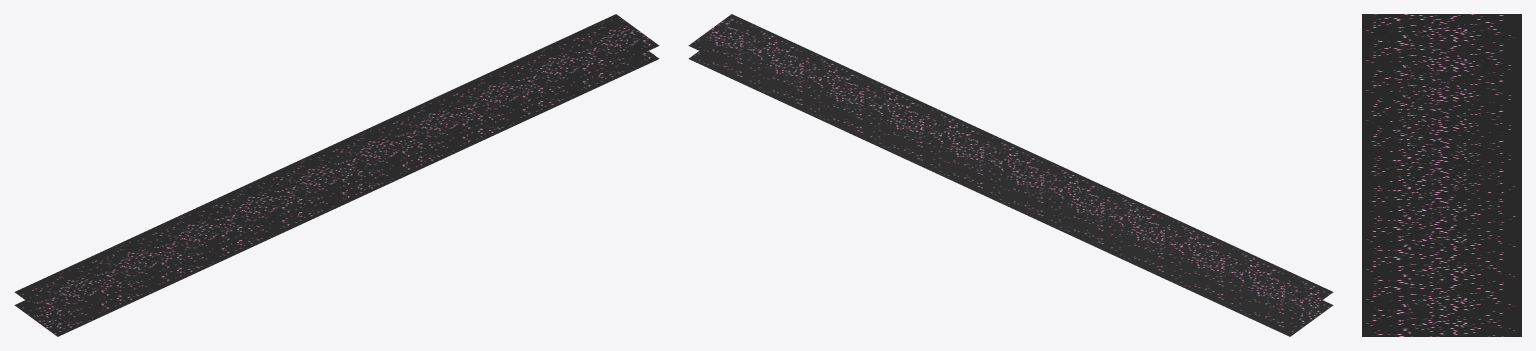
File: CourseSpring_Box_Floor_3.fbx
The picture shows the model from 3 angles, left to right: view 1: azimuth 90°, elevation 25°; view 2: azimuth 210°, elevation 25°; view 3: azimuth 330°, elevation 25°; orthographic projection. The views are drawn at different scales.
Parts seen in each view (by area): view 1: polySurface32; view 2: polySurface32; view 3: polySurface32.
Part boxes in pixels (<box>): polySurface32: <box>14,14,659,336</box>; polySurface32: <box>688,14,1333,336</box>; polySurface32: <box>1362,14,1521,336</box>.
Bounding box in the file's own units: 29.2 × 11 × 44.57.
1 material, 1 textured.
